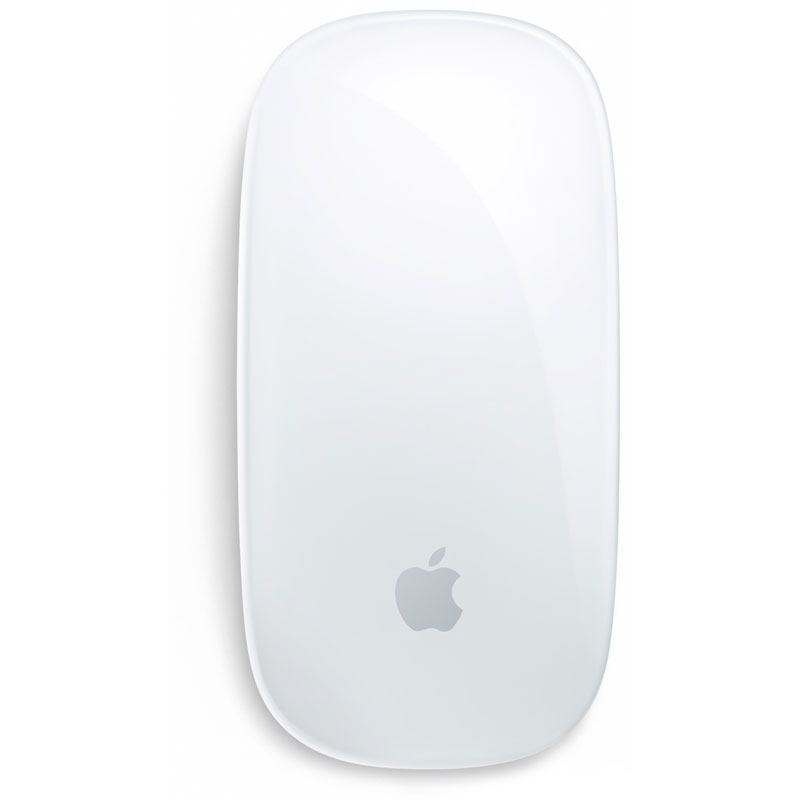Apple: (389, 539, 480, 650)
